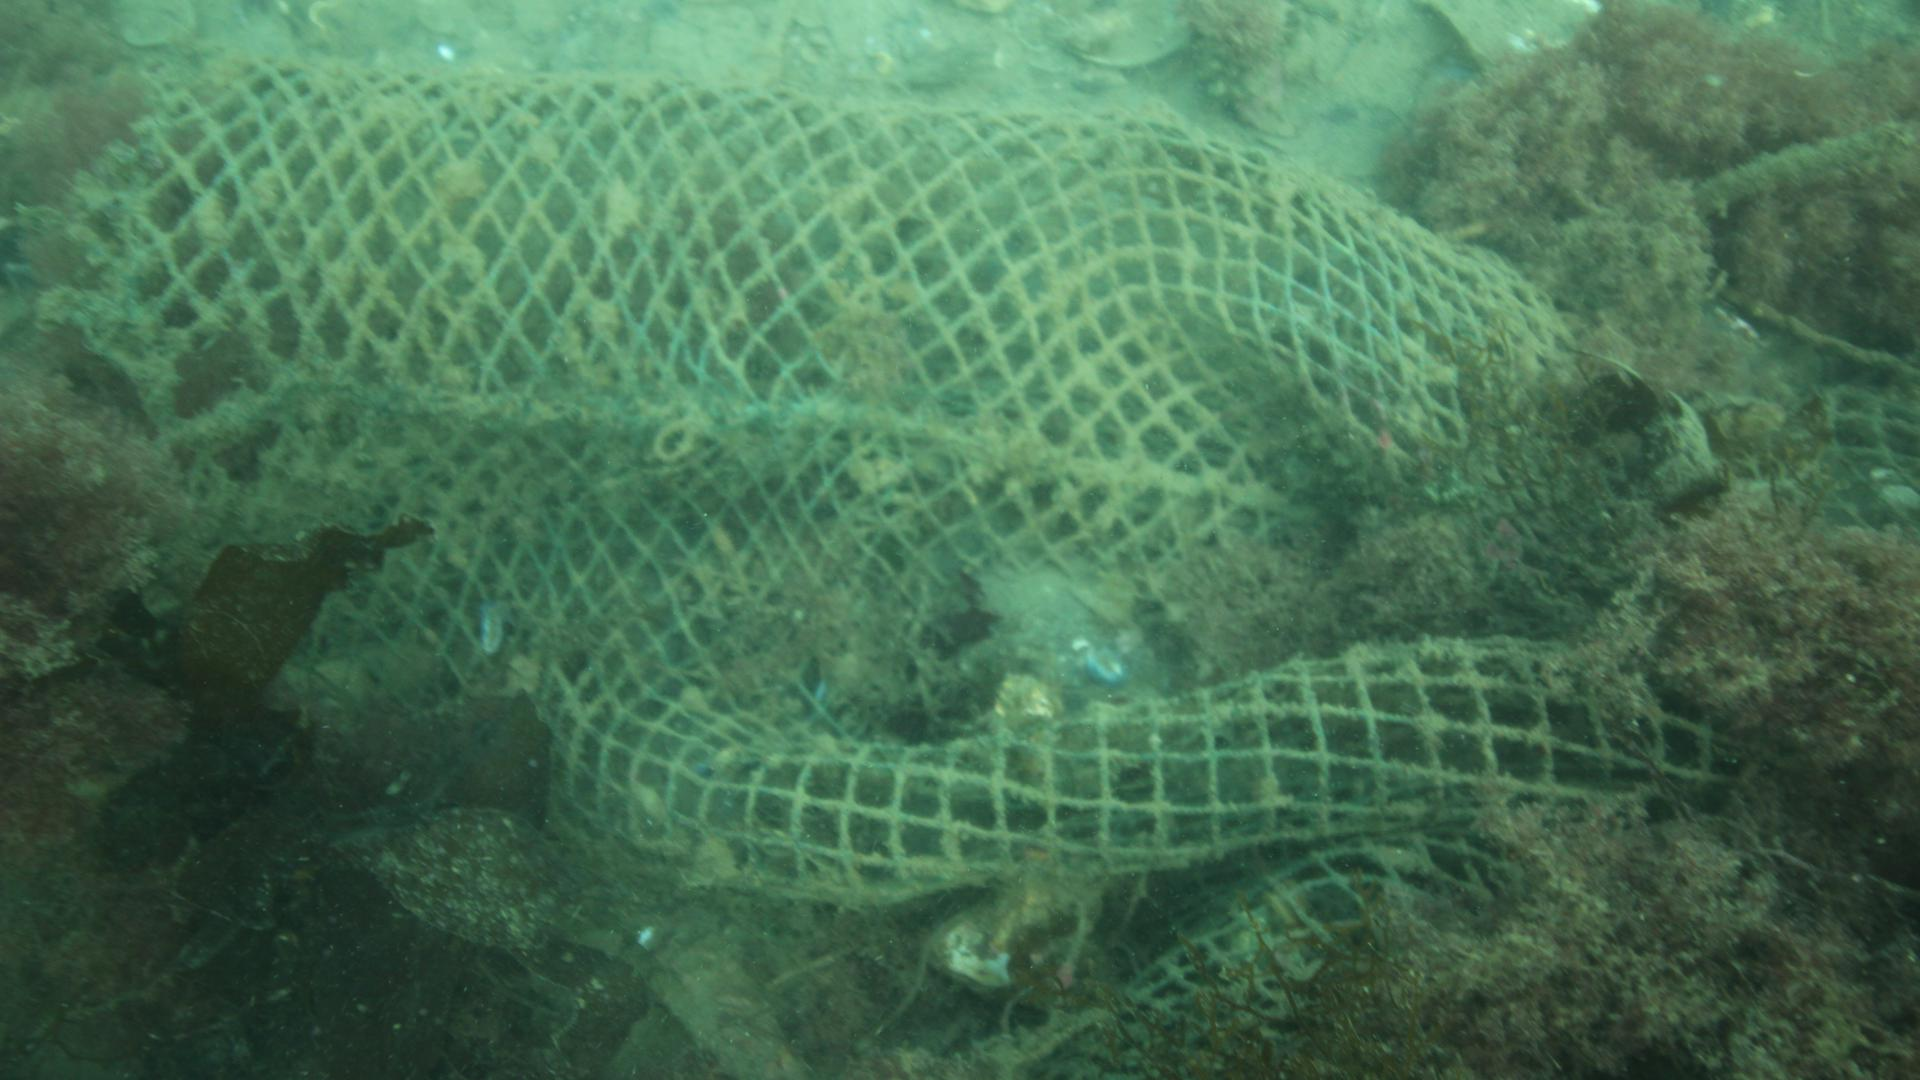fish net: (76, 54, 1920, 1011)
